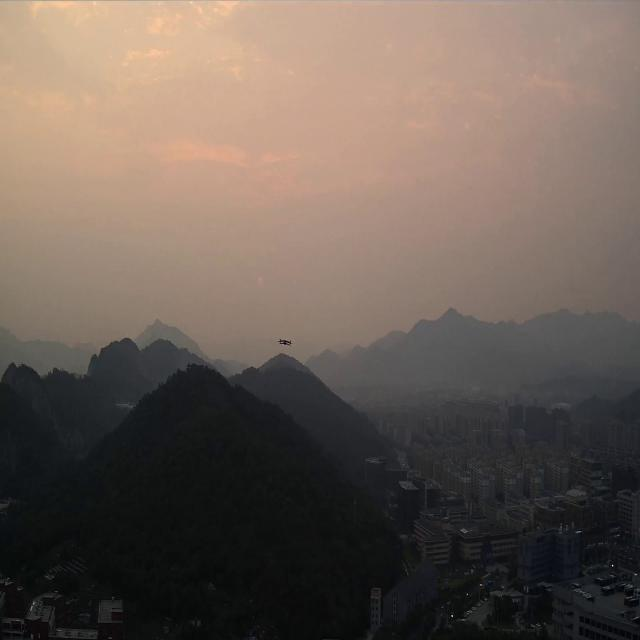UAV: (276, 338, 292, 346)
